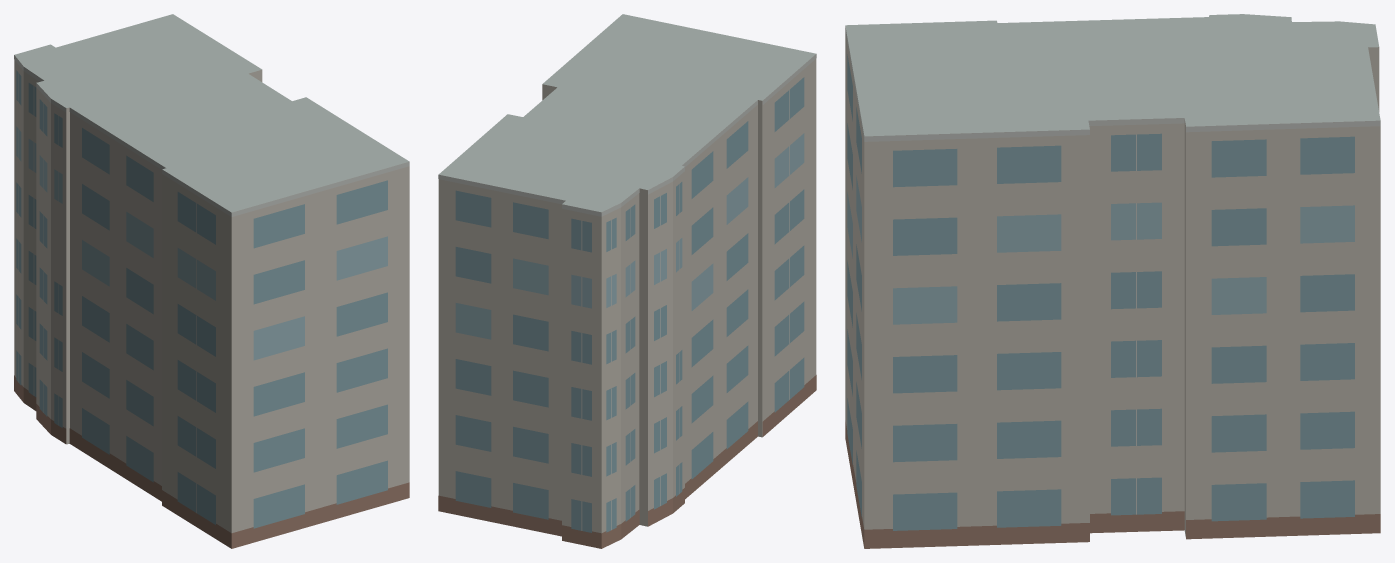
The model's file is survey-upis-32532451.glb.
The picture shows the model from 3 angles, left to right: view 1: azimuth 30°, elevation 25°; view 2: azimuth 150°, elevation 25°; view 3: azimuth 270°, elevation 25°; orthographic projection. The views are drawn at different scales.
Visible parts, largest first — view 1: survey-upis-32532451.tmp; view 2: survey-upis-32532451.tmp; view 3: survey-upis-32532451.tmp.
Part boxes in pixels (box(x1,y1,x2,y2)): survey-upis-32532451.tmp: box(14, 14, 409, 548); survey-upis-32532451.tmp: box(438, 14, 816, 548); survey-upis-32532451.tmp: box(845, 14, 1380, 548).
Size of the model in its own units: 11.59 by 18.2 by 21.42.
